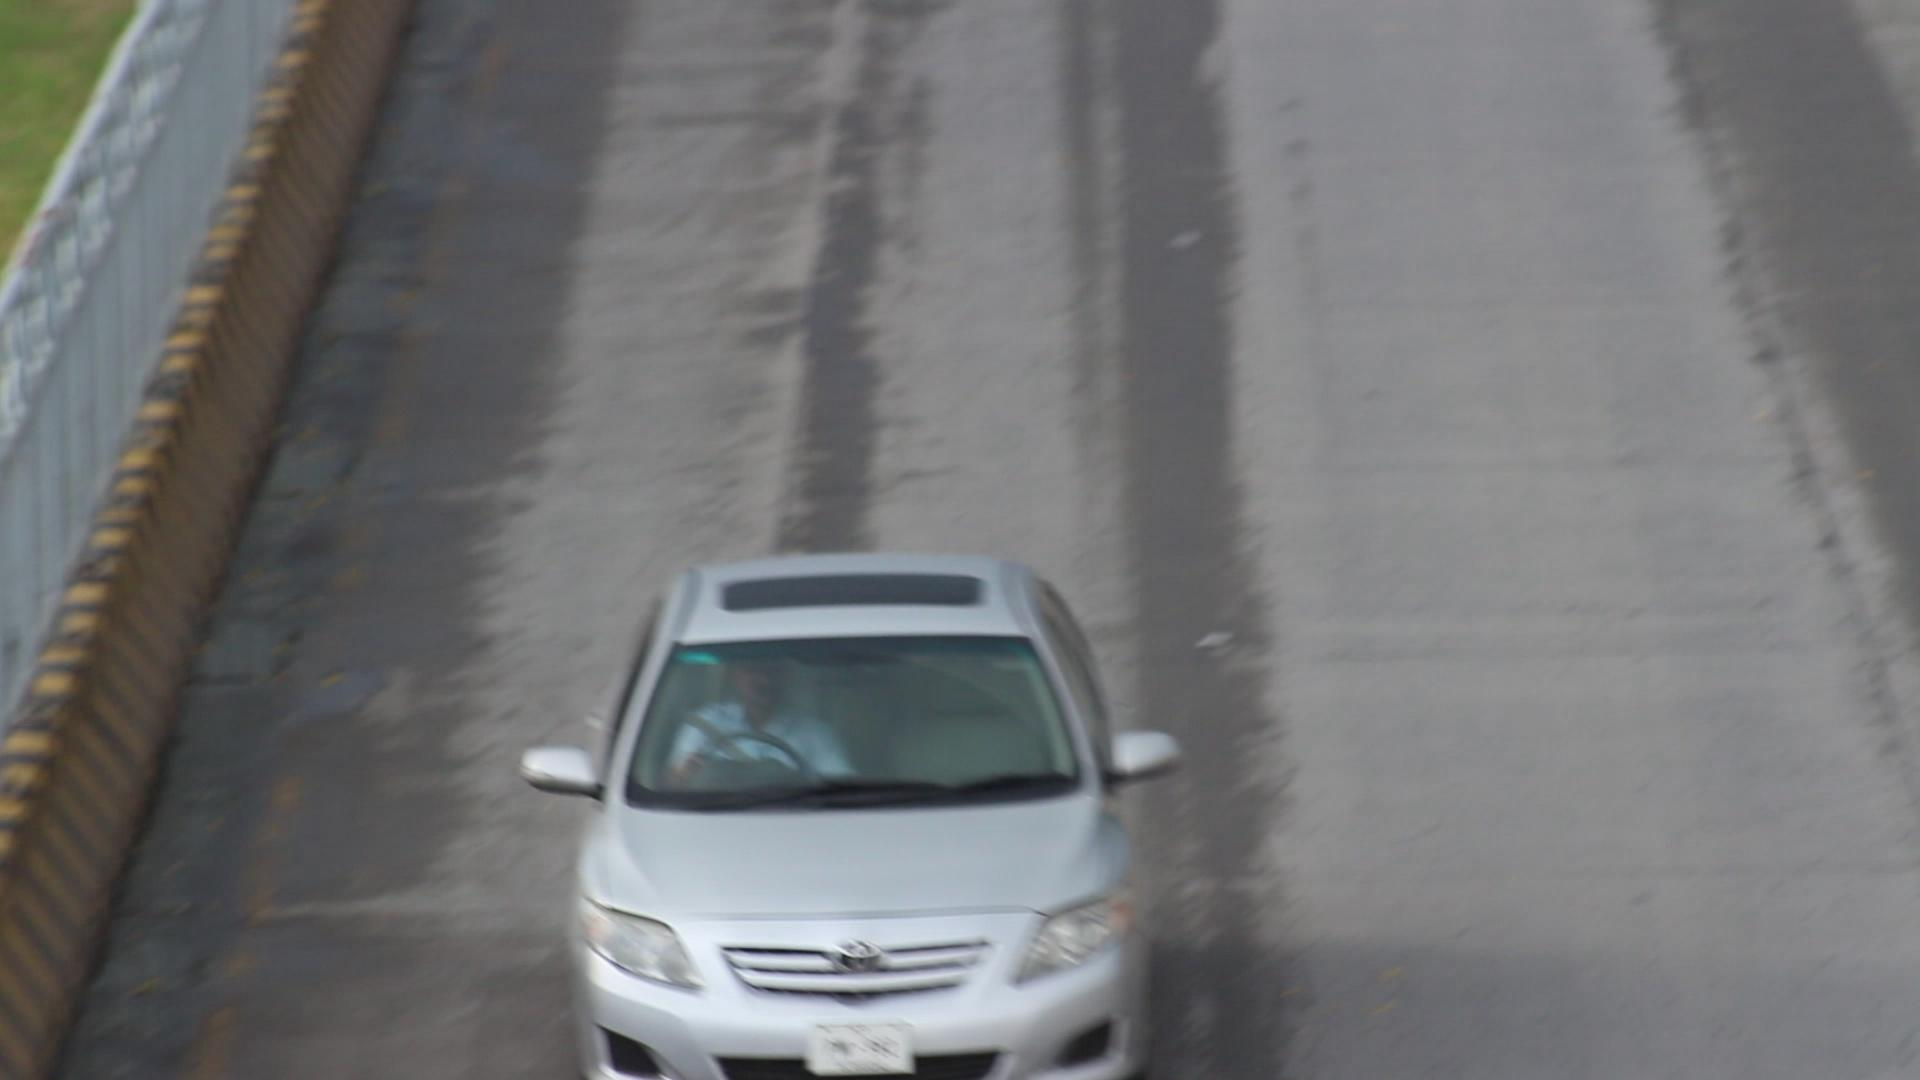windshield: (595, 613, 1104, 814)
